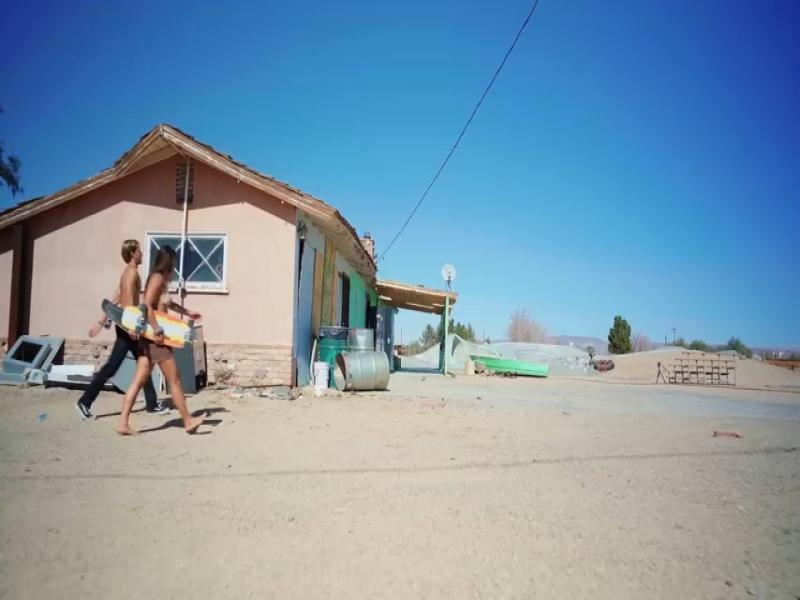person: (117, 246, 205, 436), (77, 327, 139, 419), (114, 240, 142, 308), (144, 382, 169, 414), (89, 315, 106, 337)
skate: (102, 300, 155, 339), (155, 312, 192, 347), (102, 298, 123, 324)
